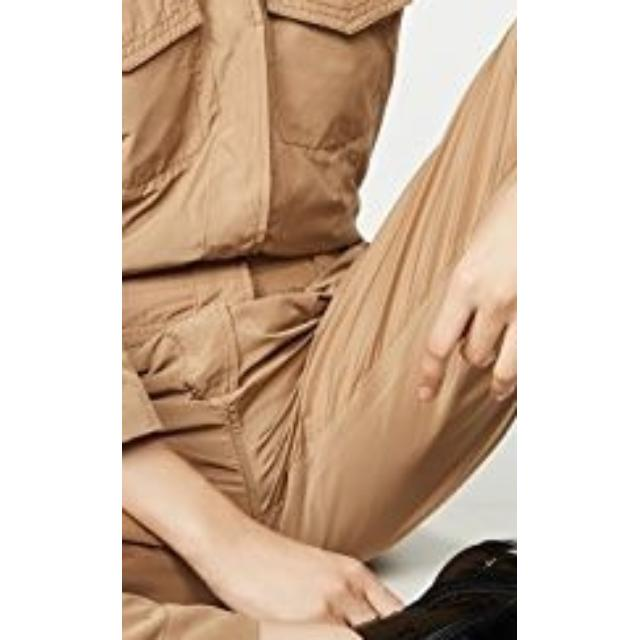polyester: (124, 1, 396, 422)
